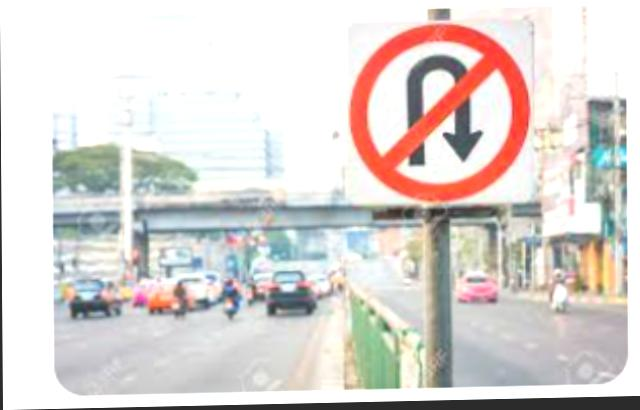not_u_turn_right: (333, 24, 545, 219)
